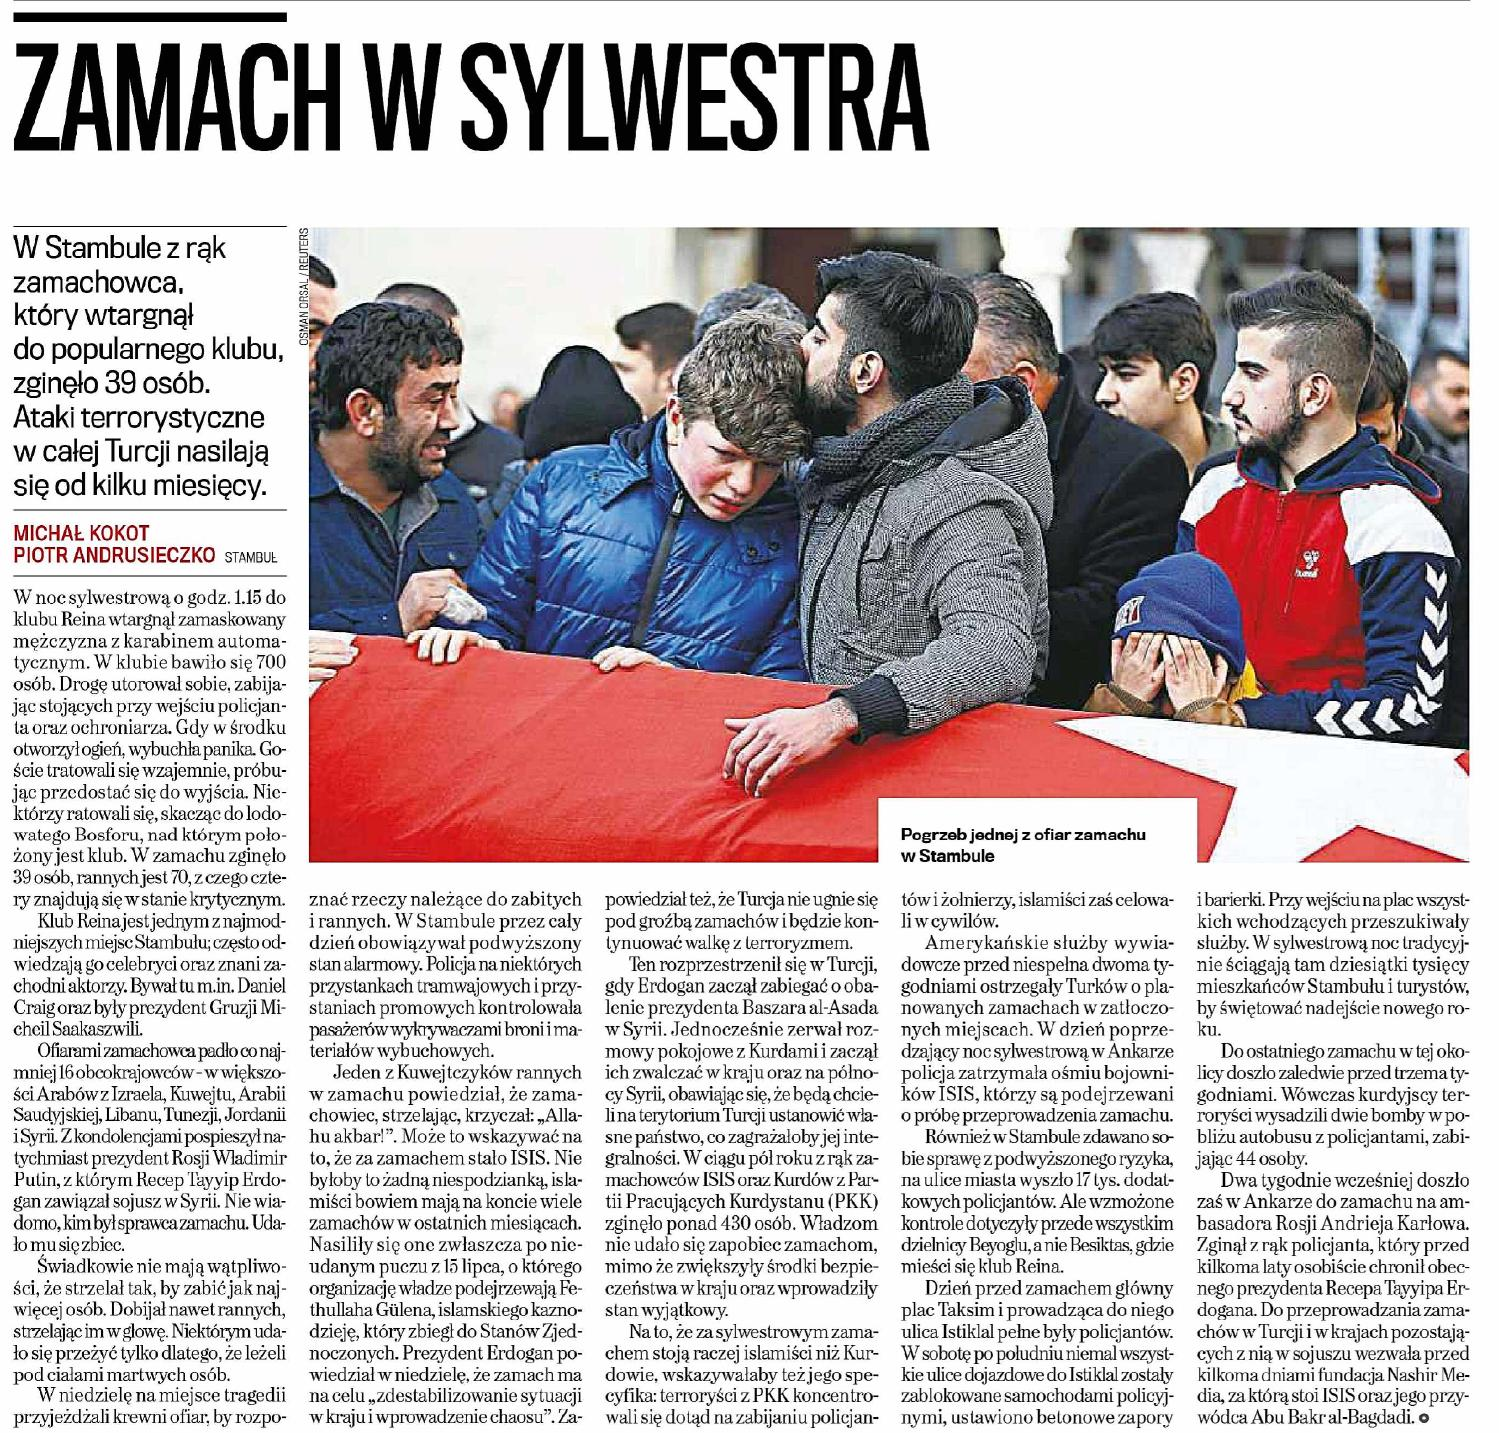author: (5, 515, 222, 570)
body: (5, 582, 297, 1433), (1191, 883, 1488, 1429), (898, 884, 1188, 1432), (600, 883, 889, 1430), (304, 883, 589, 1433)
caption: (893, 816, 1154, 863)
image: (300, 222, 1480, 874)
lead: (3, 229, 286, 504)
title: (7, 35, 969, 162)
